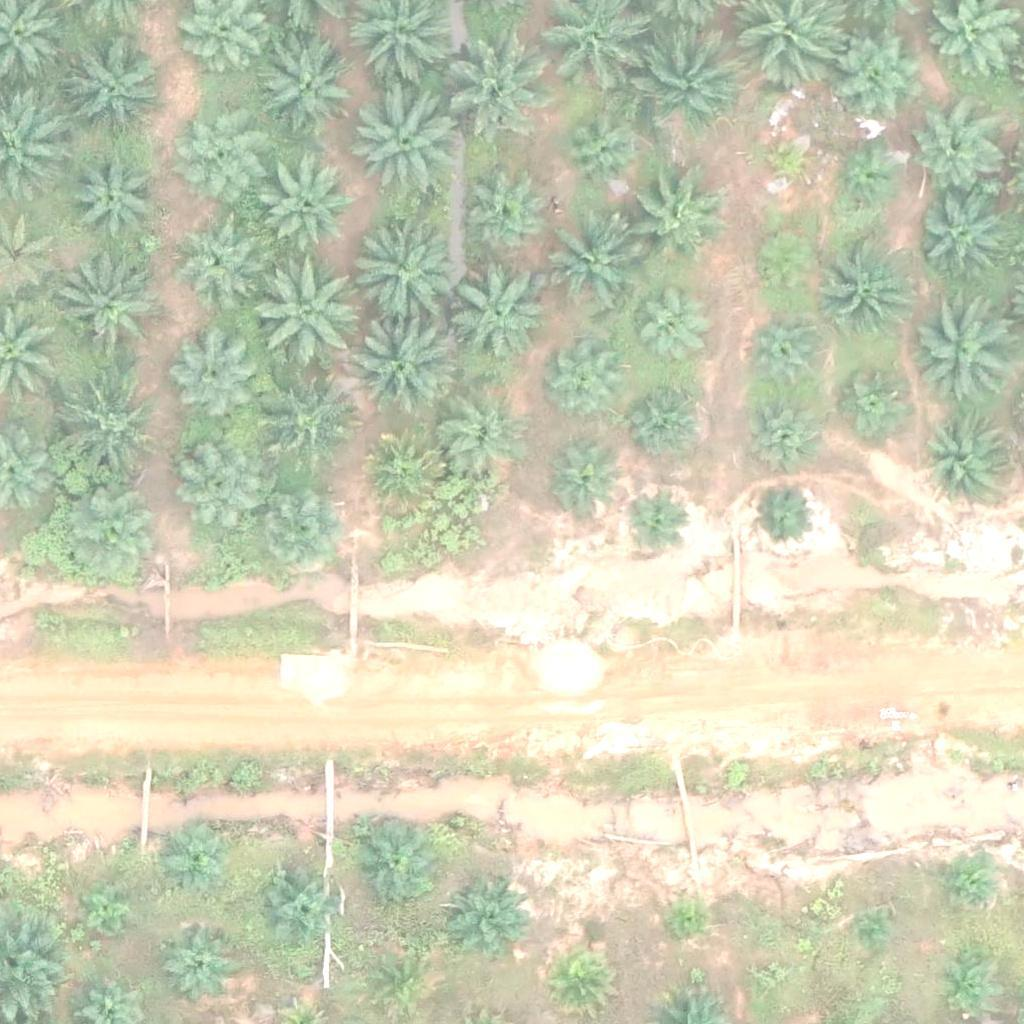Kelapa_Sawit: (343, 82, 456, 196), (348, 309, 461, 422), (340, 213, 453, 326), (629, 17, 741, 131), (248, 255, 360, 369), (440, 23, 552, 136), (48, 378, 160, 491), (831, 21, 931, 122), (623, 169, 723, 270), (537, 218, 637, 319), (447, 266, 547, 367), (253, 34, 353, 135), (255, 371, 355, 472), (57, 264, 157, 365), (822, 235, 922, 336), (914, 300, 1014, 400), (66, 491, 166, 591), (64, 39, 163, 140), (253, 863, 341, 951), (911, 108, 999, 196), (736, 391, 824, 479), (355, 429, 443, 517), (558, 107, 646, 195), (265, 167, 353, 255), (167, 335, 255, 423), (914, 195, 1001, 284), (178, 442, 265, 531), (354, 819, 441, 907), (923, 415, 1010, 503), (746, 310, 833, 398), (463, 176, 550, 264), (440, 396, 527, 484), (256, 488, 343, 576), (168, 213, 255, 301), (177, 101, 264, 189), (71, 152, 158, 240), (450, 887, 525, 963), (159, 929, 234, 1005), (629, 293, 704, 369), (631, 381, 706, 457), (830, 141, 905, 217), (749, 228, 824, 304), (837, 363, 912, 438), (549, 348, 624, 423), (547, 448, 622, 523), (161, 826, 224, 889), (550, 947, 613, 1010), (620, 489, 683, 552), (753, 485, 815, 548), (373, 953, 435, 1016), (756, 129, 818, 192), (943, 856, 993, 906), (938, 959, 988, 1009), (84, 886, 134, 936), (852, 917, 890, 955), (666, 901, 703, 939), (755, 964, 780, 990)
